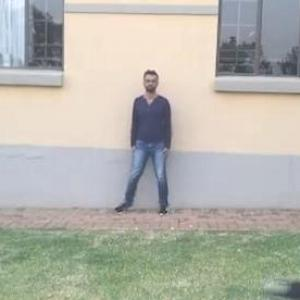follow: (129, 68, 174, 218)
